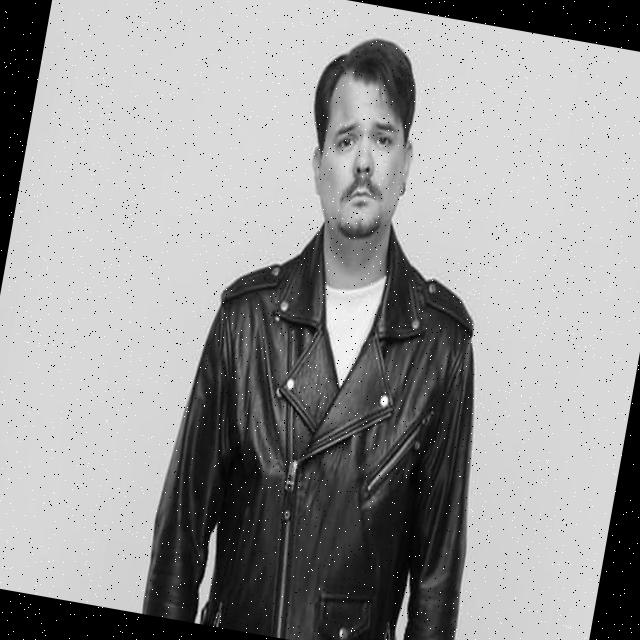Sadness: (308, 72, 411, 244)
